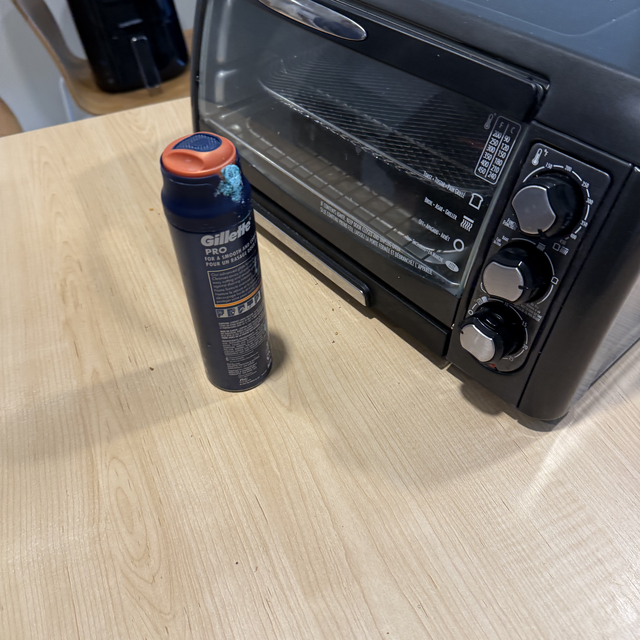Aerosol: (157, 129, 275, 393)
Toaster Oven: (176, 0, 640, 430)
